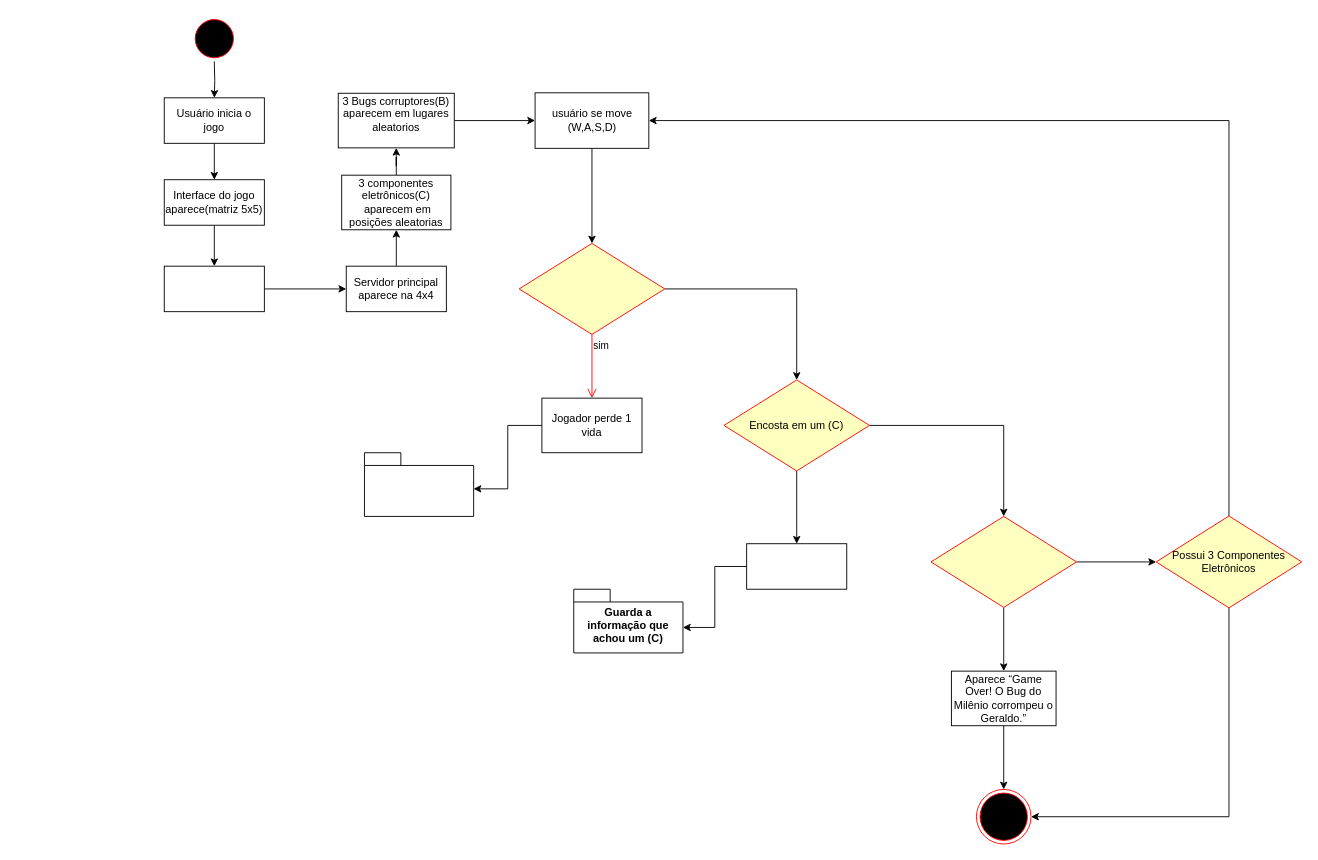
Some shapes in this 1318 by 860 pixel diagram are drawn without their labels. Each missing label, with the box of its shape:
Caso encoste em três (B): (930, 516, 1077, 607)
Caso o jogador encoste em um (B): (518, 243, 665, 334)
Geraldo aparece na 0x0: (163, 265, 264, 312)
Guarda a informação que perdeu 1 vida: (364, 452, 474, 516)
Usuário ganha um C.eletrônico: (746, 543, 847, 589)
